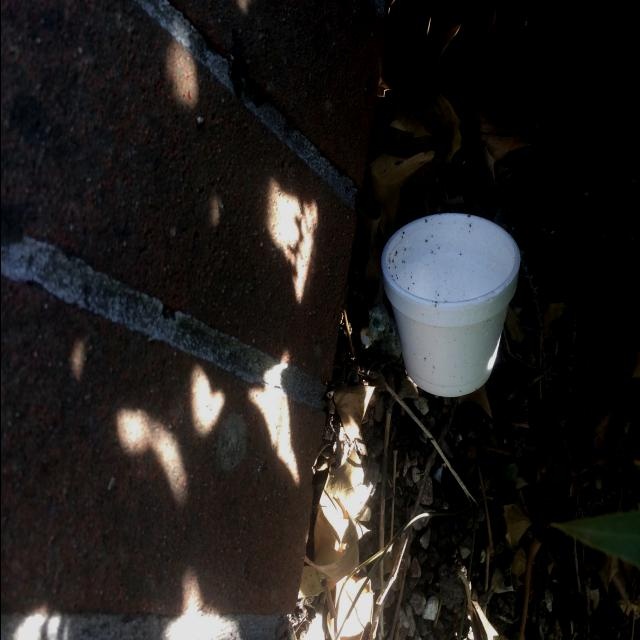Foam cup: (380, 212, 519, 397)
